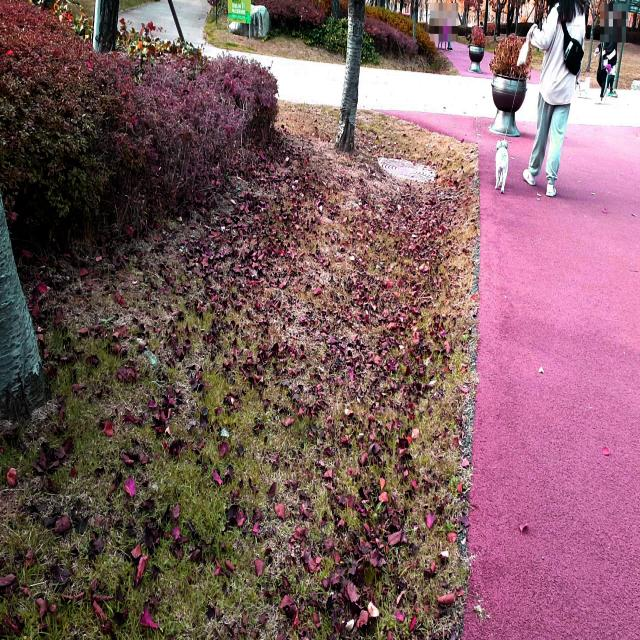Leashed_Dog: (493, 26, 550, 196)
